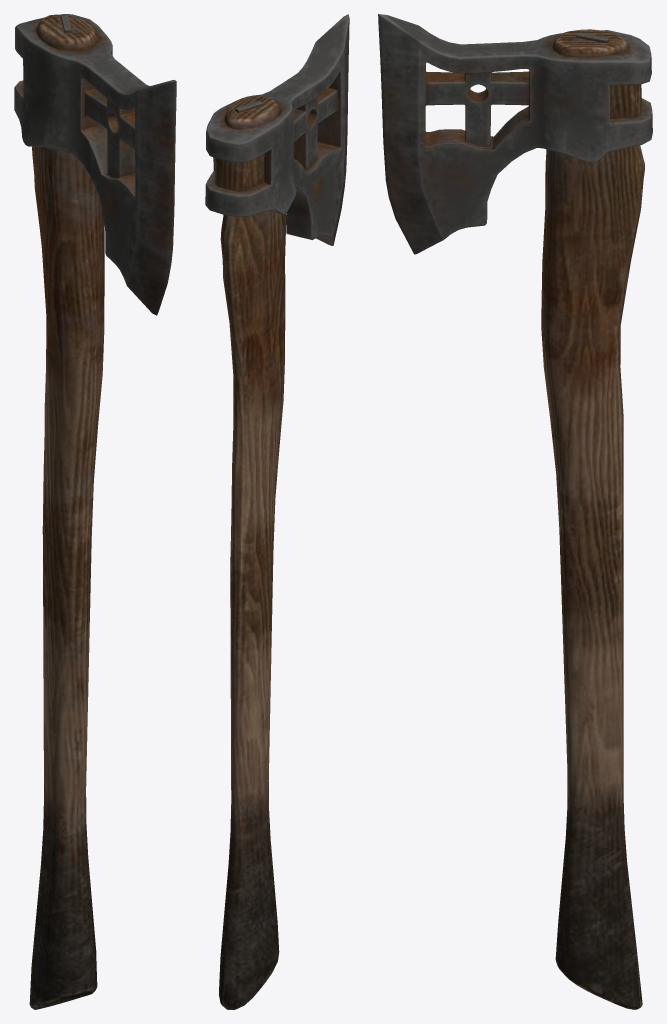
The picture shows the model from 3 angles, left to right: view 1: azimuth 30°, elevation 25°; view 2: azimuth 150°, elevation 25°; view 3: azimuth 270°, elevation 25°; orthographic projection. The views are drawn at different scales.
Visible parts, largest first — view 1: wooden_axe_03; view 2: wooden_axe_03; view 3: wooden_axe_03.
Boxes of the visible parts, x1,y1,x2,y2 form: wooden_axe_03: [14, 14, 176, 1009]; wooden_axe_03: [205, 14, 349, 1009]; wooden_axe_03: [378, 14, 652, 1009].
Size of the model in its own units: 0.0505 by 0.6318 by 0.1583.
1 material, 1 textured.
